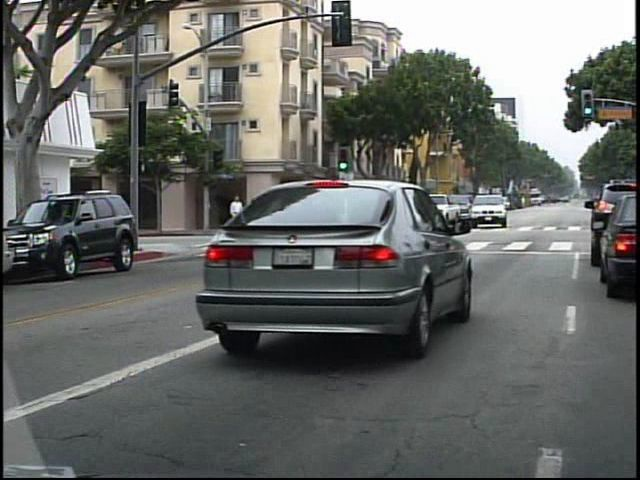person: (225, 191, 244, 239), (245, 194, 264, 235)
